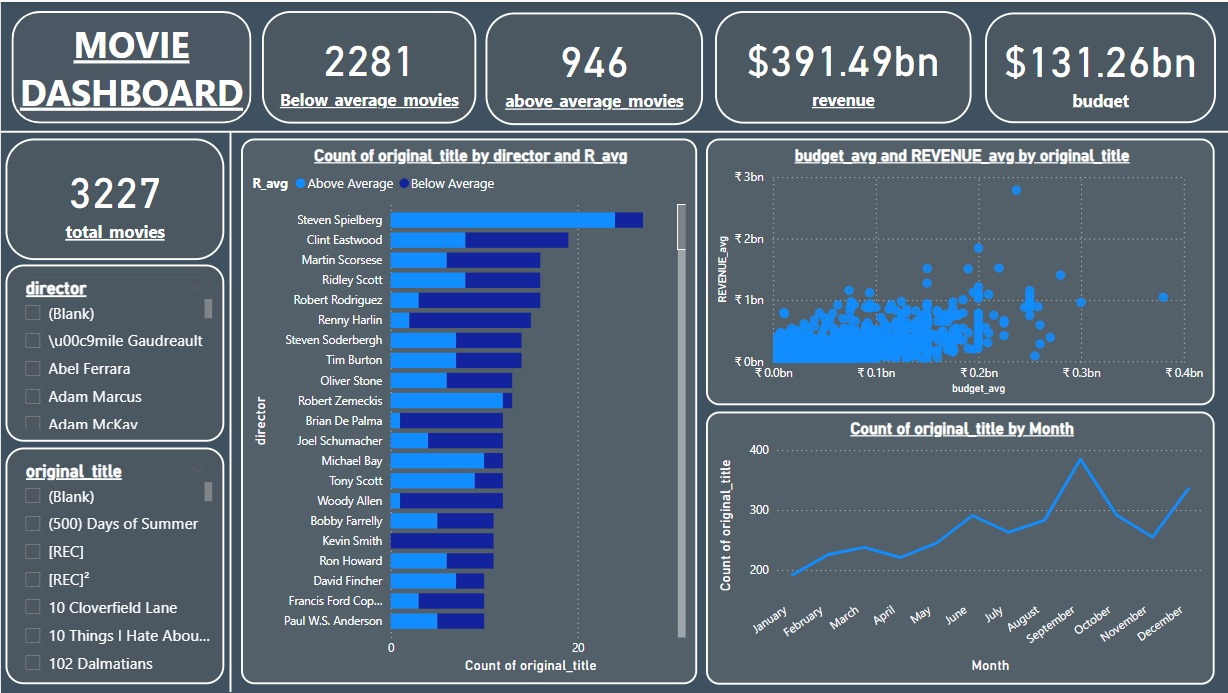

The page's visual inventory and layout, read from the dashboard file:
{"tool":"powerbi","page":{"name":"Page 6","canvas":[1280,720],"ordinal":5},"visuals":[{"type":"shape","box":[0,117.2,1280,35.9],"z":0},{"type":"shape","box":[10.9,9.4,250.1,117.2],"z":1000},{"type":"card","fields":{"Values":["tables.total_movies"]},"box":[4.7,142.2,228.2,126.6],"z":2000},{"type":"card","fields":{"Values":["tables.Below_average"]},"box":[272,9.4,223.5,117.2],"z":3000},{"type":"card","fields":{"Values":["tables.above_average"]},"box":[504.8,10.9,226.6,117.2],"z":4000},{"type":"shape","box":[232.9,134.4,12.5,584.6],"z":7000},{"type":"slicer","fields":{"Values":["movies.original_title"]},"box":[4.7,464.2,228.2,247],"z":8000},{"type":"scatterChart","fields":{"X":["tables.budget_avg"],"Y":["tables.REVENUE_avg"],"Category":["movies.original_title"]},"box":[734.6,142.2,529.9,278.2],"z":9000},{"type":"barChart","fields":{"Category":["movies.director"],"Y":["movies.original_title"],"Series":["movies.R_avg"]},"box":[250.1,142.2,475.1,568.9],"z":10000},{"type":"slicer","fields":{"Values":["movies.director"]},"box":[4.7,273.5,228.2,184.4],"z":11001},{"type":"card","fields":{"Values":["tables.revenue"]},"box":[744,9.4,267.3,117.2],"z":11002},{"type":"card","fields":{"Values":["tables.budget"]},"box":[1025.3,10.9,240.7,115.7],"z":11003},{"type":"lineChart","fields":{"Y":["movies.original_title"],"Category":["movies.release_date.Variation.Date Hierarchy.Year","movies.release_date.Variation.Date Hierarchy.Quarter","movies.release_date.Variation.Date Hierarchy.Month","movies.release_date.Variation.Date Hierarchy.Day"]},"box":[734.6,426.7,529.9,284.5],"z":11004}]}

Visuals, with their boxes in screenshot pixels (x1, y1, x2, y2), scaled from the page's 1280x720 canvas onto the 1228x693 screenshot:
shape: bbox=[0, 113, 1227, 147]
shape: bbox=[10, 9, 250, 122]
card - tables.total_movies: bbox=[5, 137, 223, 259]
card - tables.Below_average: bbox=[261, 9, 475, 122]
card - tables.above_average: bbox=[484, 10, 702, 123]
shape: bbox=[223, 129, 235, 692]
slicer - movies.original_title: bbox=[5, 447, 223, 685]
scatterChart - tables.budget_avg x tables.REVENUE_avg: bbox=[705, 137, 1213, 405]
barChart - movies.director x movies.original_title: bbox=[240, 137, 696, 684]
slicer - movies.director: bbox=[5, 263, 223, 441]
card - tables.revenue: bbox=[714, 9, 970, 122]
card - tables.budget: bbox=[984, 10, 1215, 122]
lineChart - movies.original_title x movies.release_date.Variation.Date Hierarchy.Year: bbox=[705, 411, 1213, 685]
